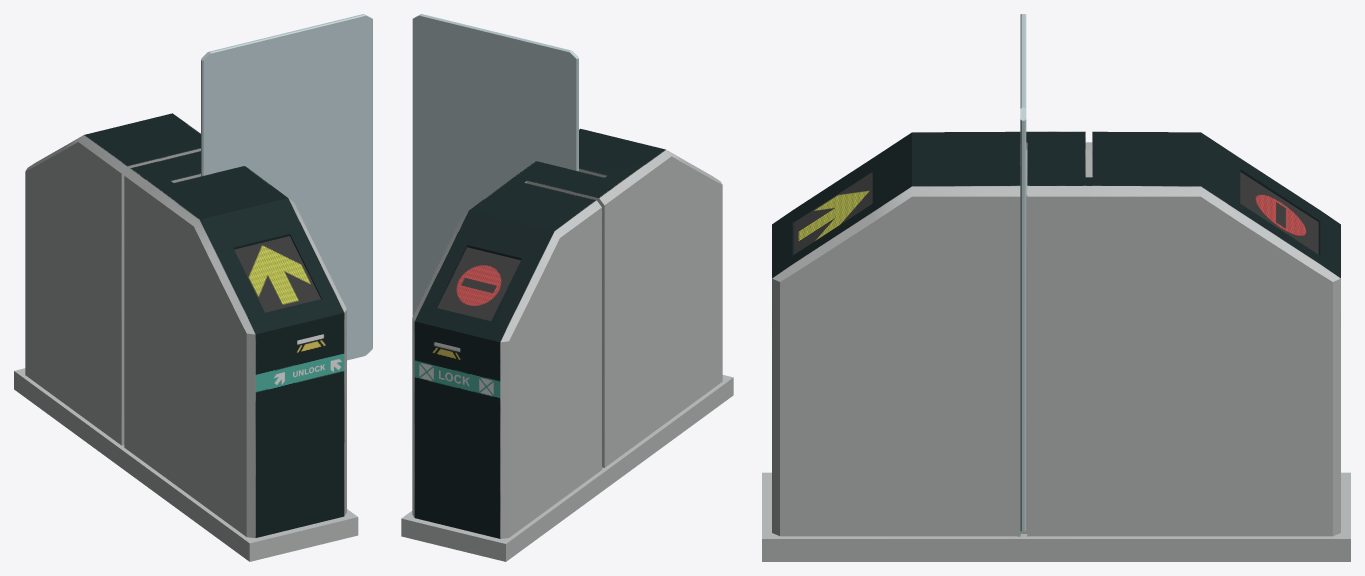
The model's file is Tx_Torniquete_ESC01.fbx.
The picture shows the model from 3 angles, left to right: view 1: azimuth 30°, elevation 25°; view 2: azimuth 150°, elevation 25°; view 3: azimuth 270°, elevation 25°; orthographic projection. The views are drawn at different scales.
Parts seen in each view (by area): view 1: Toniquete01, Tx_Vidrio_Torniquete_ESC1; view 2: Toniquete01, Tx_Vidrio_Torniquete_ESC1; view 3: Toniquete01, Tx_Vidrio_Torniquete_ESC1.
Boxes of the visible parts, <box> form: Toniquete01: <box>14,113,358,561</box>; Tx_Vidrio_Torniquete_ESC1: <box>201,14,372,360</box>; Toniquete01: <box>401,128,733,561</box>; Tx_Vidrio_Torniquete_ESC1: <box>412,14,578,316</box>; Toniquete01: <box>762,131,1350,561</box>; Tx_Vidrio_Torniquete_ESC1: <box>1020,14,1026,533</box>.
Bounding box in the file's own units: 82.69 × 145 × 149.
2 materials, 2 textured.
